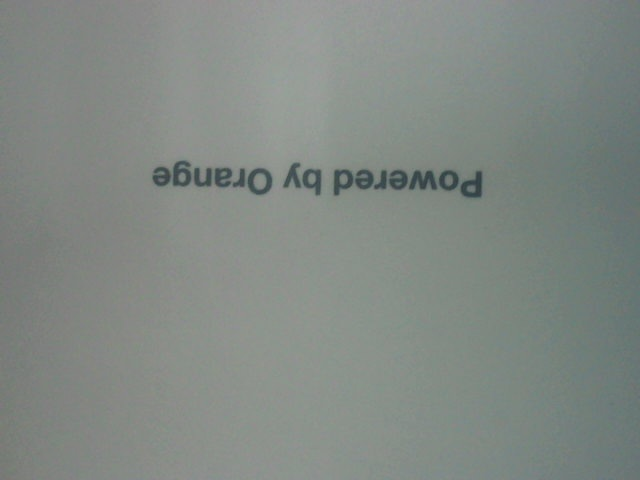AS_PowerByOrange: (141, 152, 489, 203)
